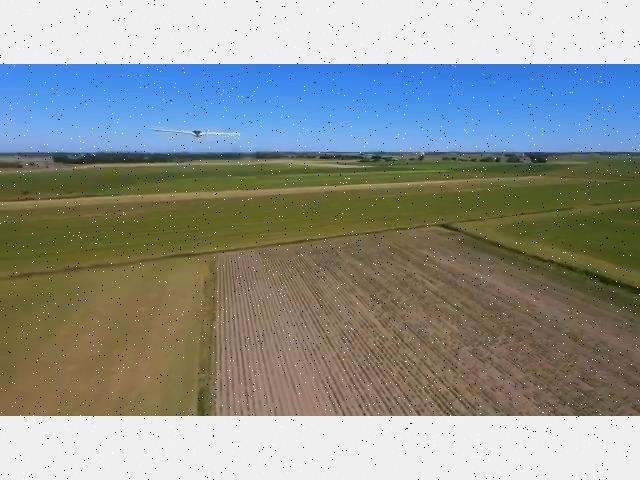Anti-Drone: (138, 109, 250, 153)
